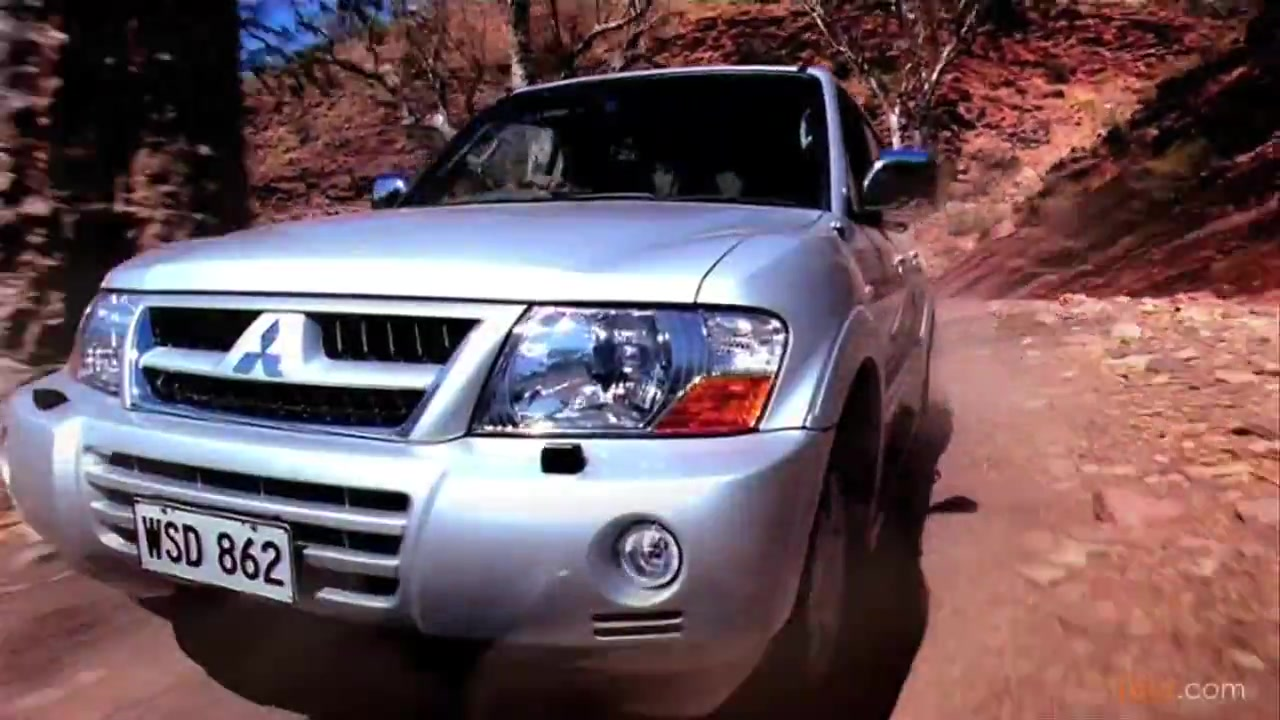car: (3, 62, 944, 720)
